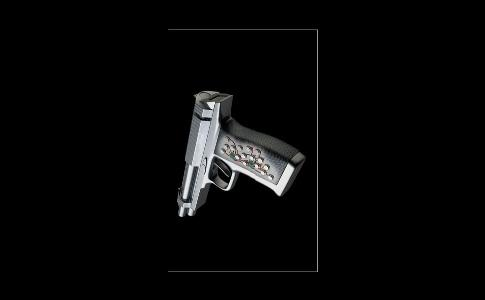weapon: (175, 86, 307, 220)
